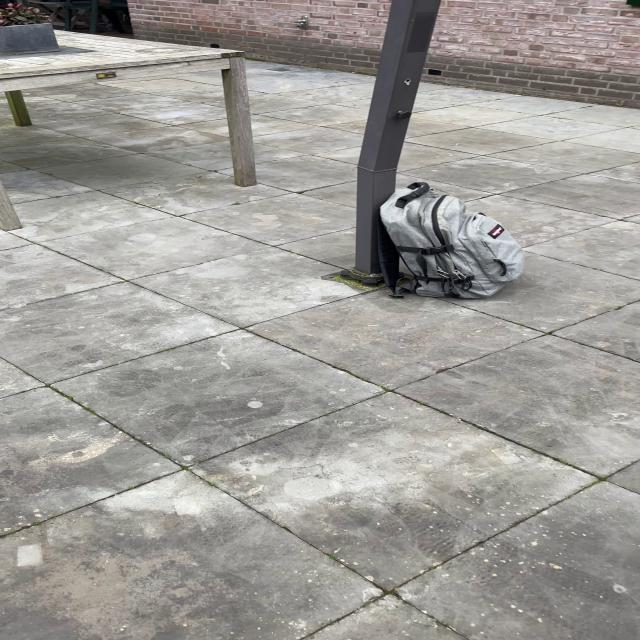backpack: (362, 180, 531, 304)
